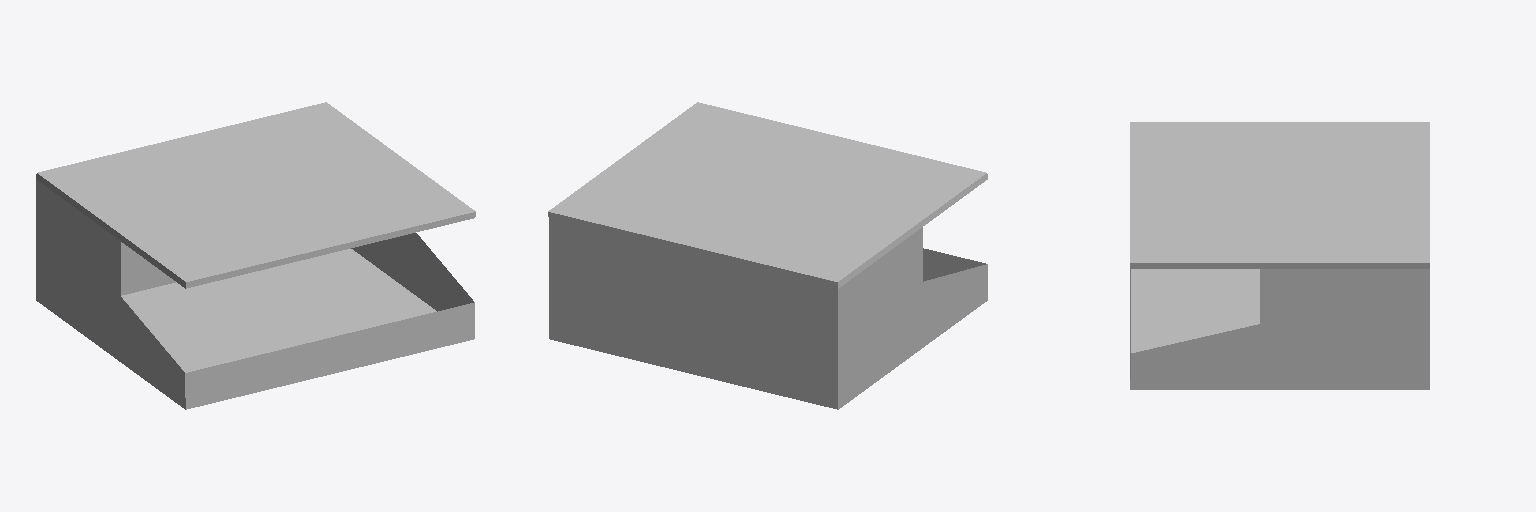
Rendered from bottom_section.obj.
The picture shows the model from 3 angles: view 1: azimuth 30°, elevation 25°; view 2: azimuth 150°, elevation 25°; view 3: azimuth 270°, elevation 25°; orthographic projection.
Visible parts, largest first — view 1: black_wall.011; view 2: black_wall.011; view 3: black_wall.011.
Boxes of the visible parts, box(x1,y1,x2,y2) form: black_wall.011: box(36, 102, 475, 409); black_wall.011: box(548, 102, 987, 409); black_wall.011: box(1130, 122, 1429, 389).
Size of the model in its own units: 39.72 by 16.64 by 35.45.